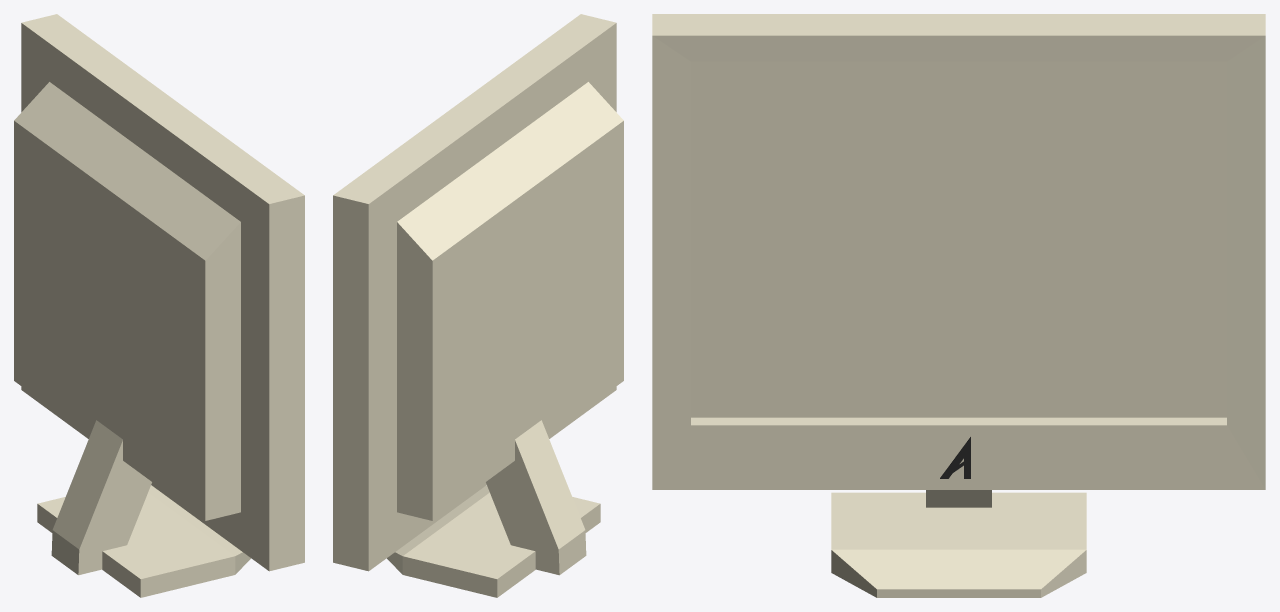
Rendered from monitor-4_3.fbx.
The picture shows the model from 3 angles, left to right: view 1: azimuth 30°, elevation 25°; view 2: azimuth 150°, elevation 25°; view 3: azimuth 270°, elevation 25°; orthographic projection. The views are drawn at different scales.
Visible parts, largest first — view 1: Cube.001; view 2: Cube.001; view 3: Cube.001.
Part boxes in pixels (x1=…): Cube.001: x1=14, y1=14, x2=304, y2=597; Cube.001: x1=333, y1=14, x2=623, y2=597; Cube.001: x1=652, y1=14, x2=1265, y2=597.
Size of the model in its own units: 179 by 463 by 480.
